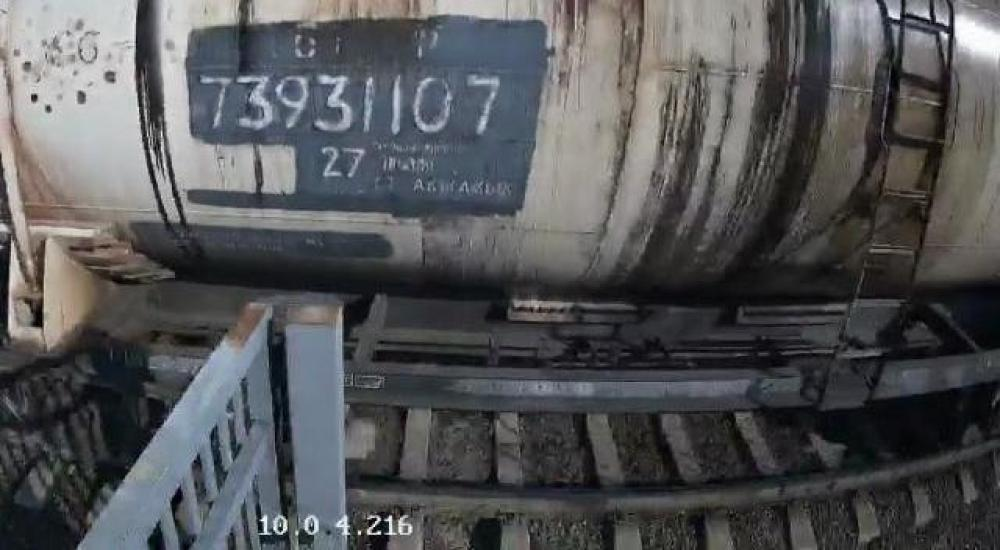Wagon-number: (198, 65, 501, 139)
